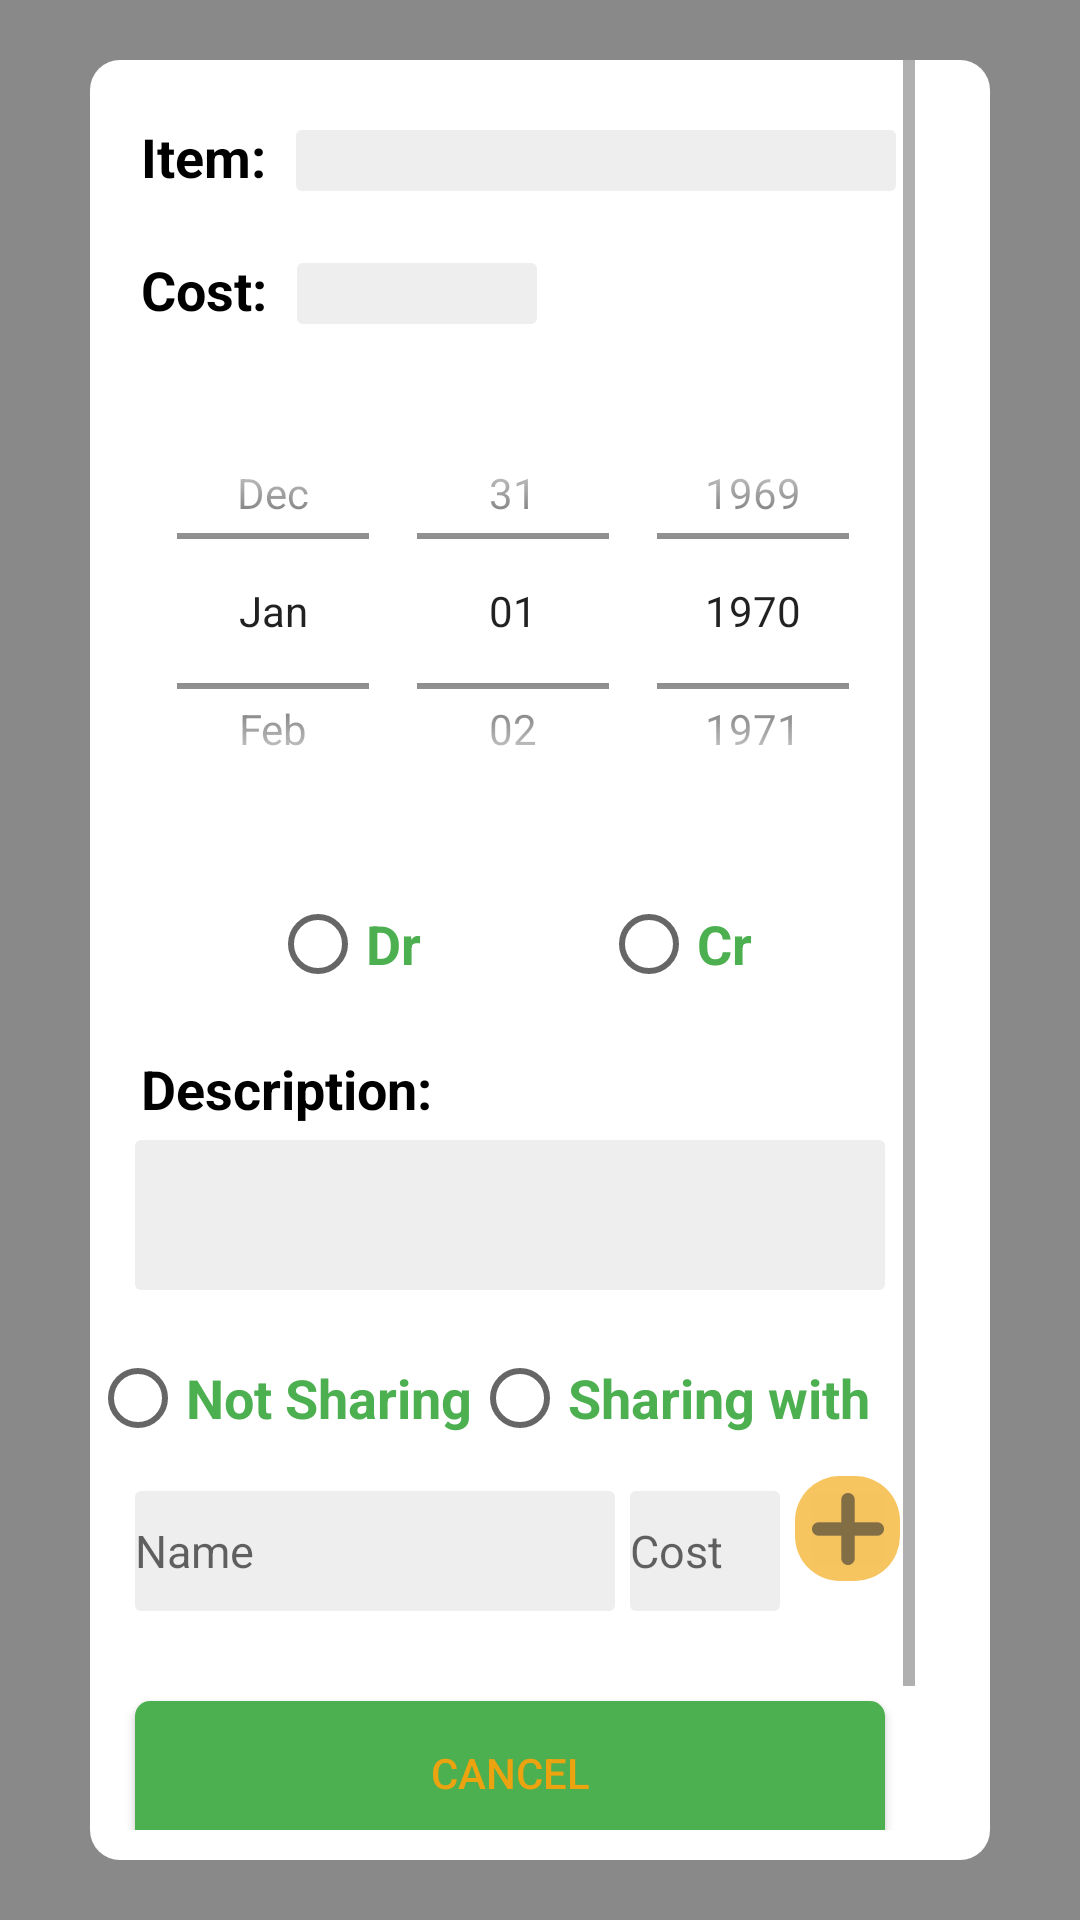

Icon bounding boxes for this 1080x1920 phone screenshot, format [left=x1, top=y1, right=x2, bottom=y2]:
plus sign: [left=795, top=1476, right=900, bottom=1581]
